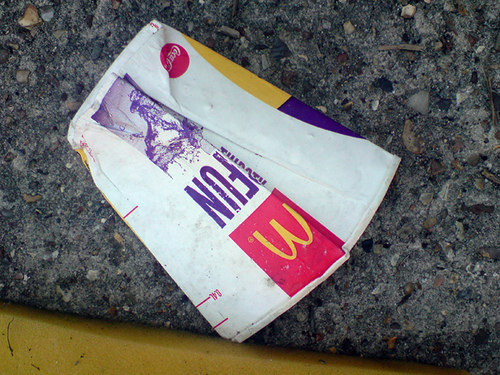litter: (66, 19, 405, 337)
